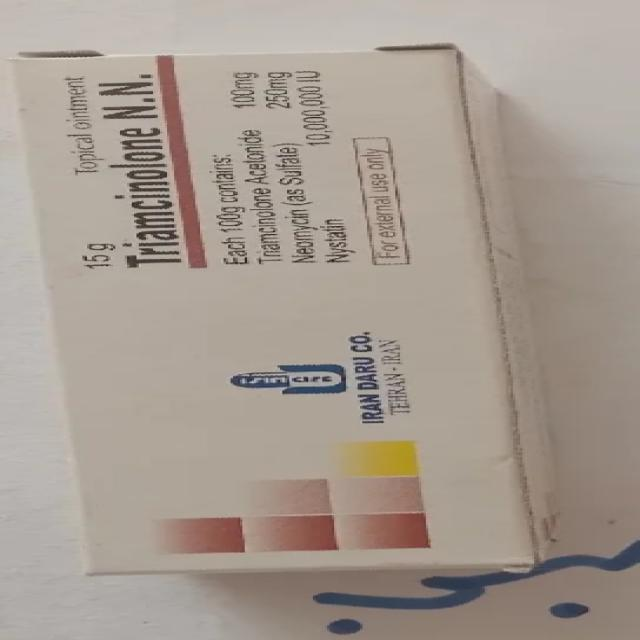drug-name: (102, 122, 185, 271)
